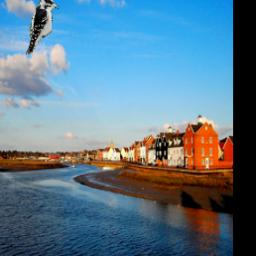Woodpecker: (26, 0, 62, 56)
